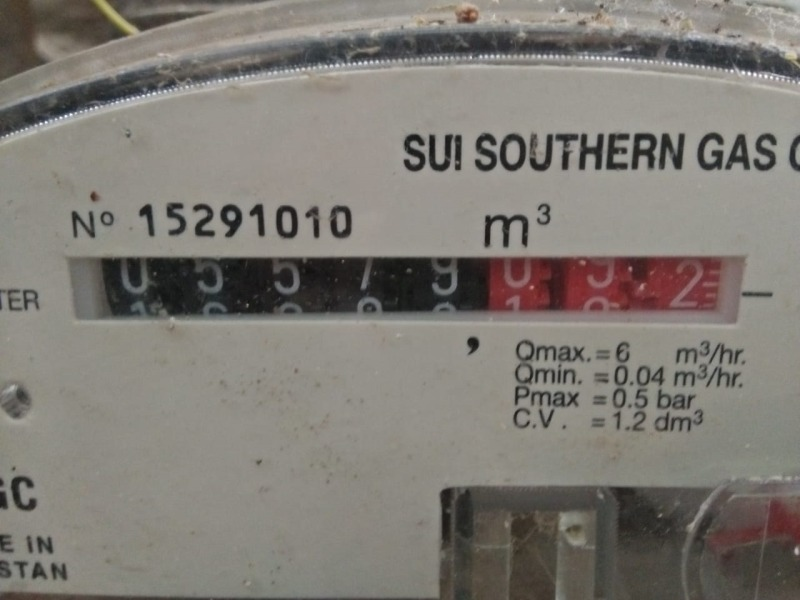ssgc: (61, 251, 734, 328)
